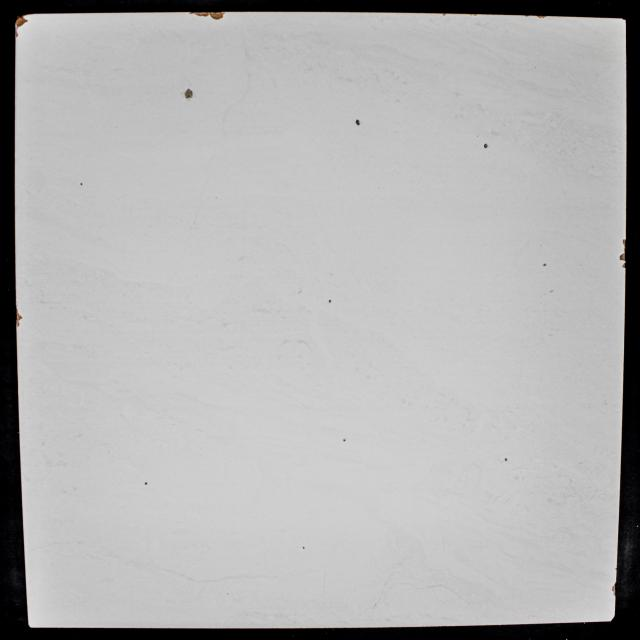edge-chipping: (210, 12, 226, 21), (188, 12, 208, 17), (20, 14, 28, 26), (14, 15, 20, 30), (619, 252, 626, 262), (16, 313, 23, 320), (536, 15, 548, 19), (612, 582, 616, 591), (15, 305, 18, 313), (16, 321, 20, 327), (611, 616, 615, 622), (622, 262, 626, 268), (623, 239, 626, 246), (469, 14, 478, 16), (613, 592, 616, 597), (28, 624, 31, 628), (524, 15, 530, 17), (442, 13, 446, 16), (624, 247, 626, 251), (622, 18, 626, 20), (615, 568, 617, 570)
hole: (184, 88, 193, 99), (356, 119, 360, 126), (484, 143, 488, 148), (504, 458, 508, 461), (543, 264, 547, 266), (343, 439, 346, 441), (145, 482, 147, 485), (329, 300, 331, 302), (302, 547, 304, 549), (80, 183, 82, 185)
